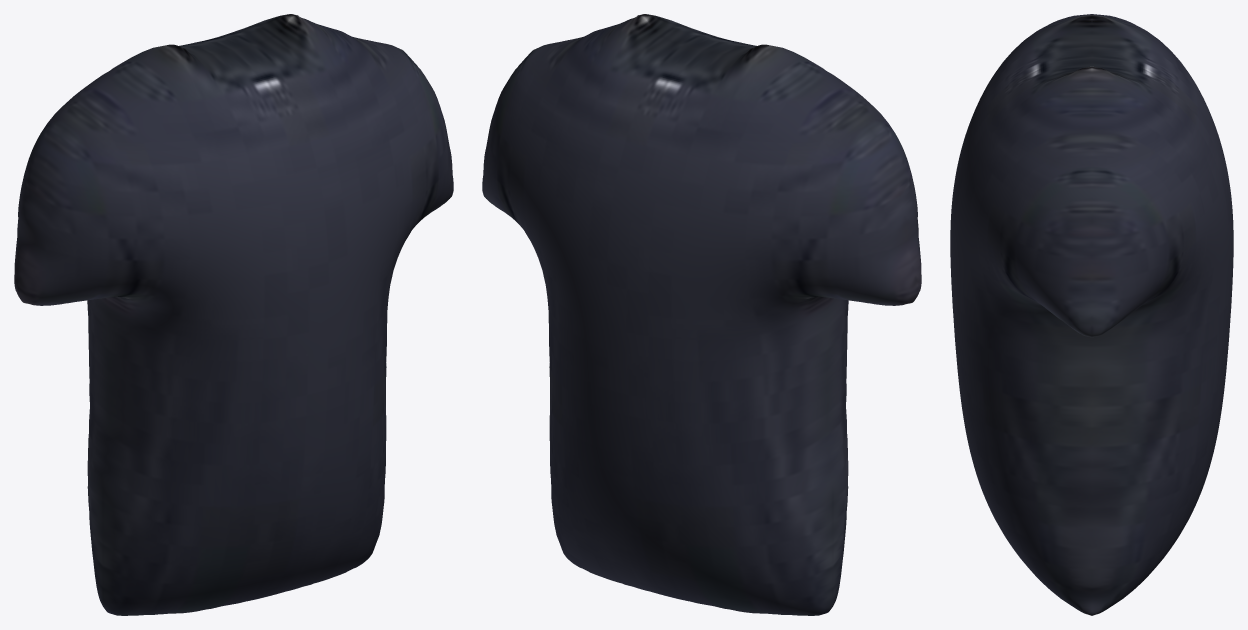
The model's file is cloth@27=cloth_front.glb.
3 renders of one model, left to right at view 1: azimuth 30°, elevation 25°; view 2: azimuth 150°, elevation 25°; view 3: azimuth 270°, elevation 25°, orthographic. The views are drawn at different scales.
Bounding box in the file's own units: 5.99 × 7.42 × 3.66.
1 material, 1 textured.
